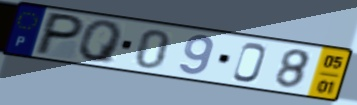0: (133, 27, 174, 70), (232, 42, 269, 83)
8: (273, 48, 313, 90)
9: (177, 33, 216, 78)
P: (31, 10, 88, 57)
Q: (77, 20, 125, 66)
